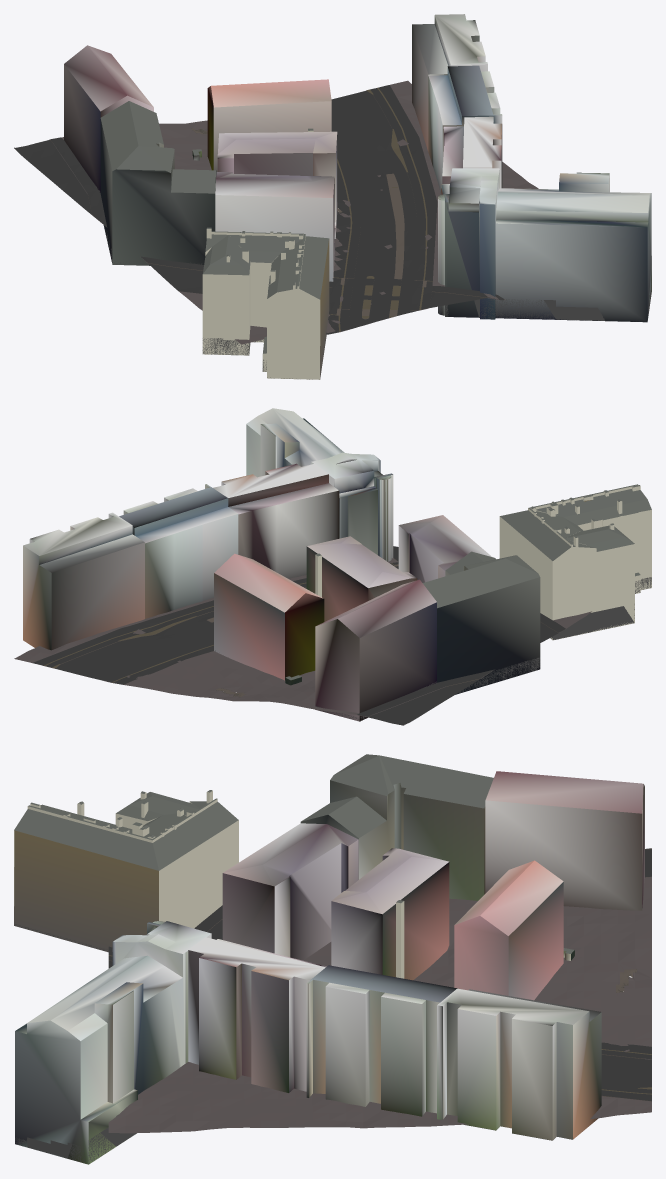
3 views of the same model, one above another, from view 1: azimuth 30°, elevation 25°; view 2: azimuth 150°, elevation 25°; view 3: azimuth 270°, elevation 25° (orthographic). The views are drawn at different scales.
Parts seen in each view (by area): view 1: c_p03_m14; view 2: c_p03_m14; view 3: c_p03_m14.
Boxes of the visible parts, left/top/right/bottom form: c_p03_m14: left=14, top=14, right=651, bottom=379; c_p03_m14: left=14, top=408, right=651, bottom=725; c_p03_m14: left=14, top=754, right=651, bottom=1164.
Size of the model in its own units: 144 by 48.7 by 150.
